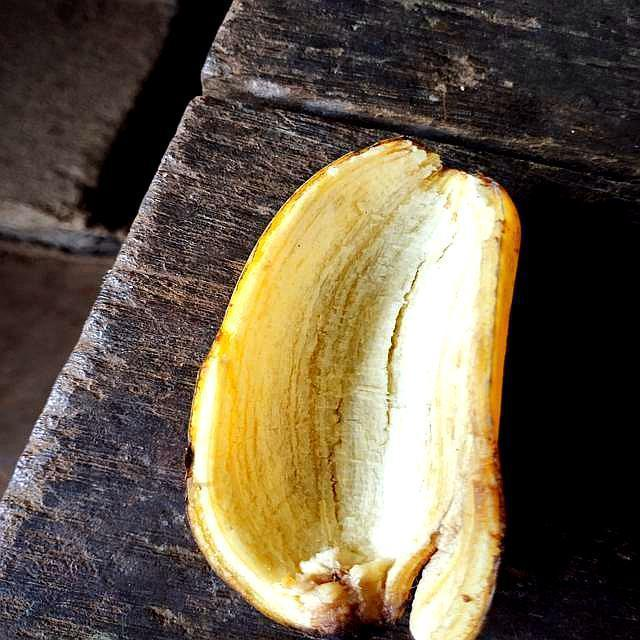Biodegradable: (185, 135, 515, 637)
